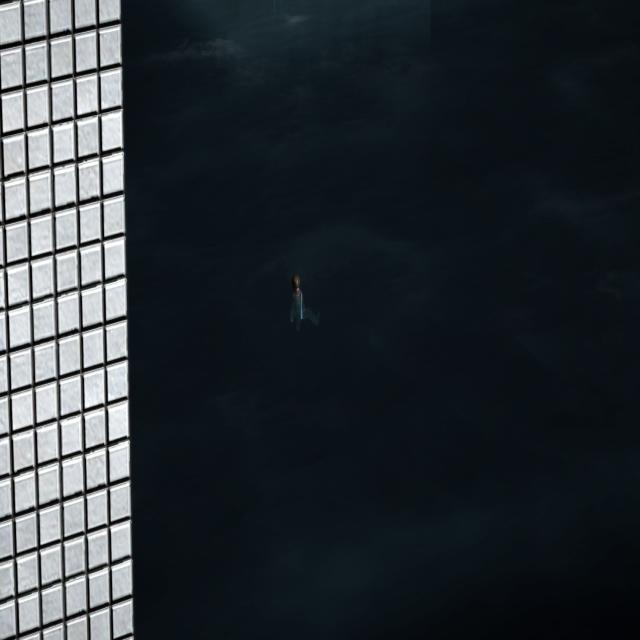Human: (285, 272, 325, 341)
